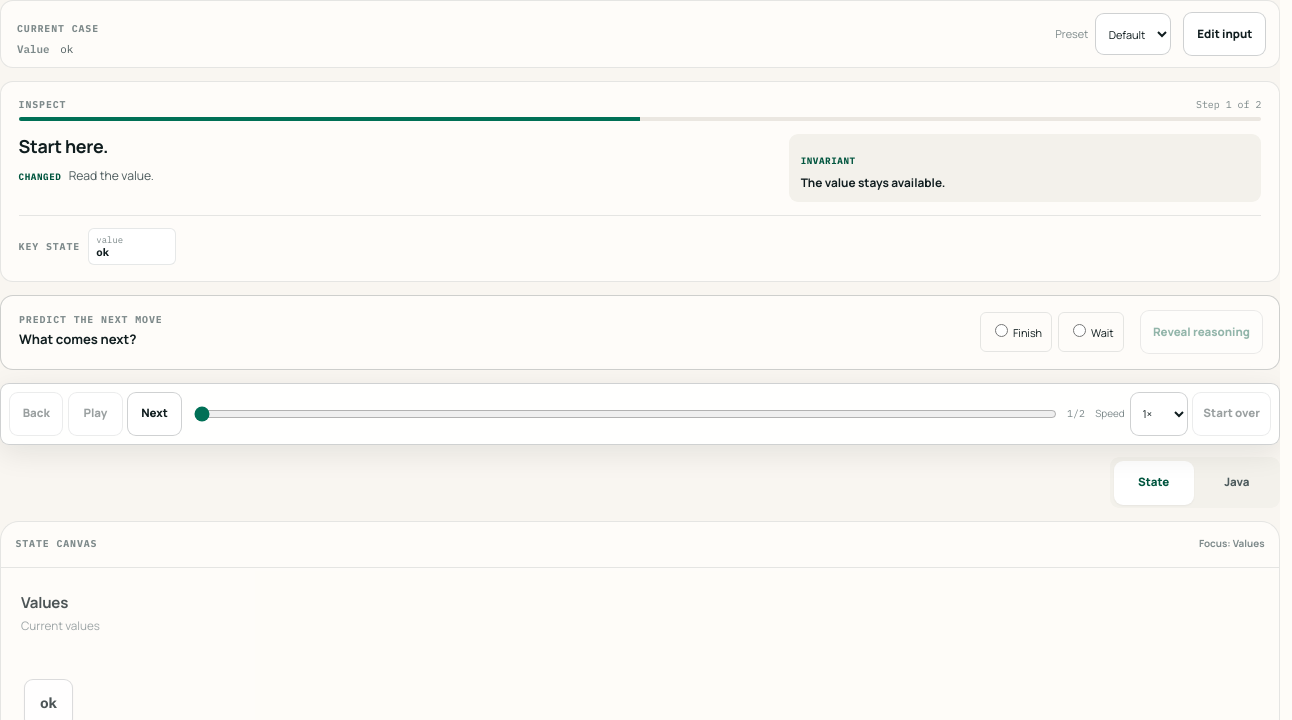
Test case: TraceWorkspace › uses one cancellable timer and pauses when the tab is hidden
Expected: the heading "Start here." is shown, [19, 134, 108, 158]
Click the radio button labelled "Finish" at (1002, 330), box [995, 324, 1008, 337]
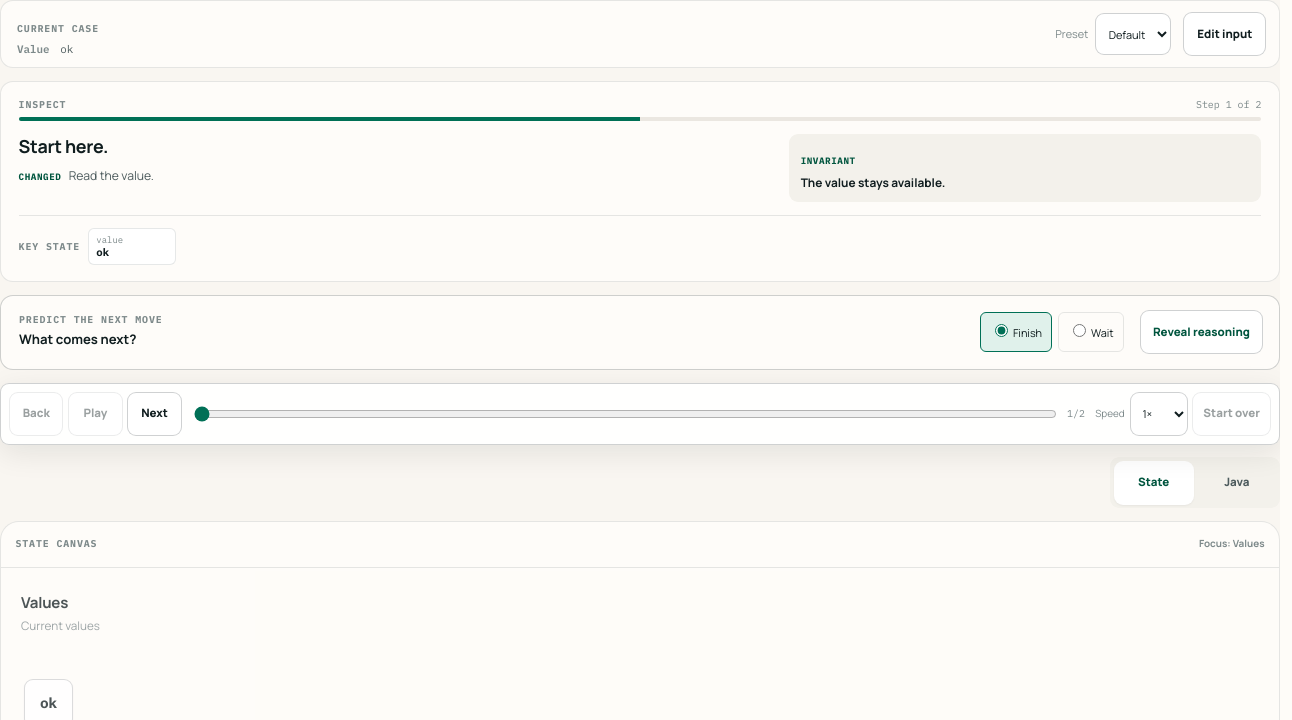
Click the button "Reveal reasoning" at (1201, 332), box [1140, 310, 1263, 354]
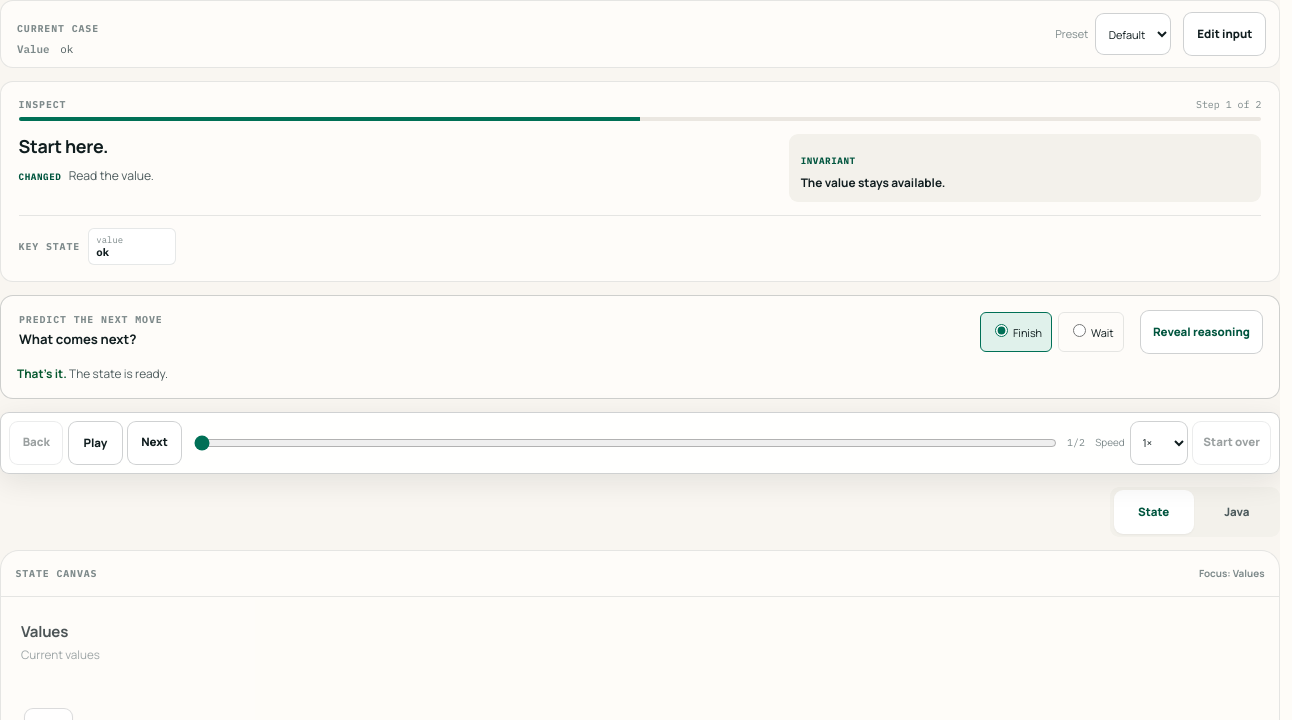
Click the button with aria-label "Play trace" at (95, 443), box [68, 421, 123, 465]
Wait 901 ms
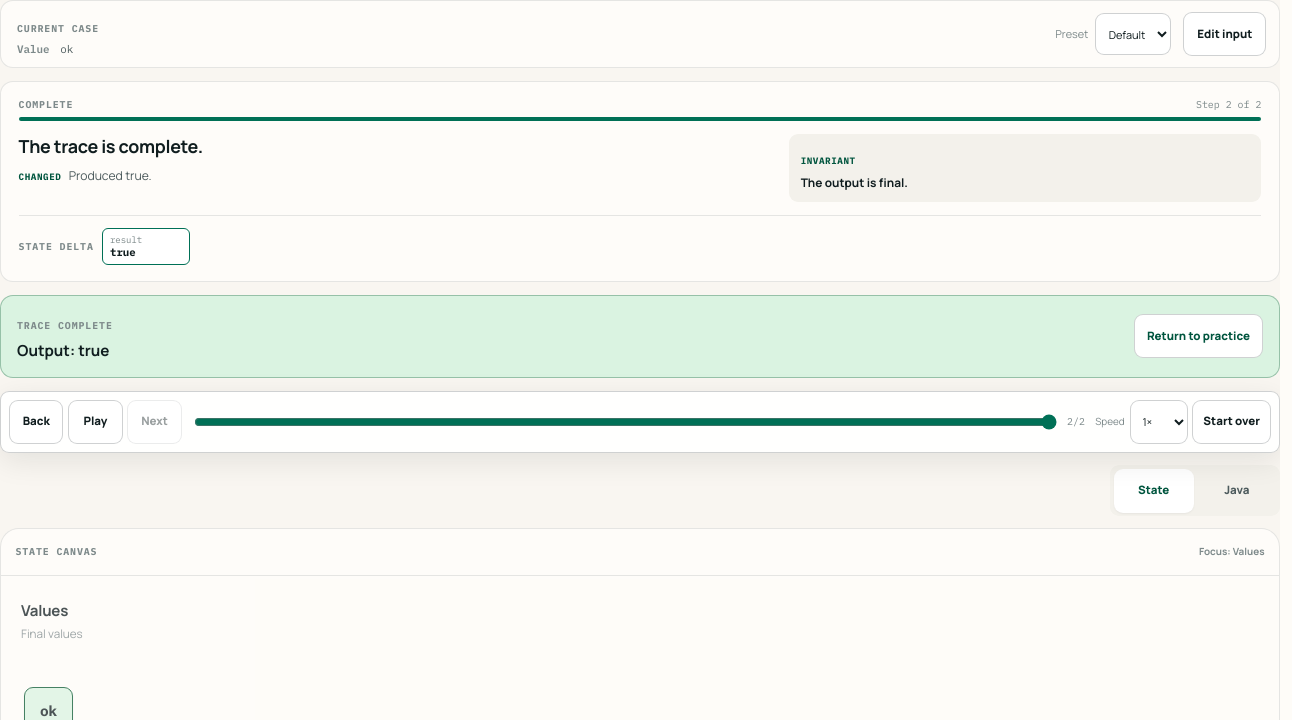
Expected: the heading "The trace is complete." is shown, [19, 134, 203, 158]
Click the button with aria-label "Play trace" at (95, 422), box [68, 400, 123, 444]
Wait 2000 ms
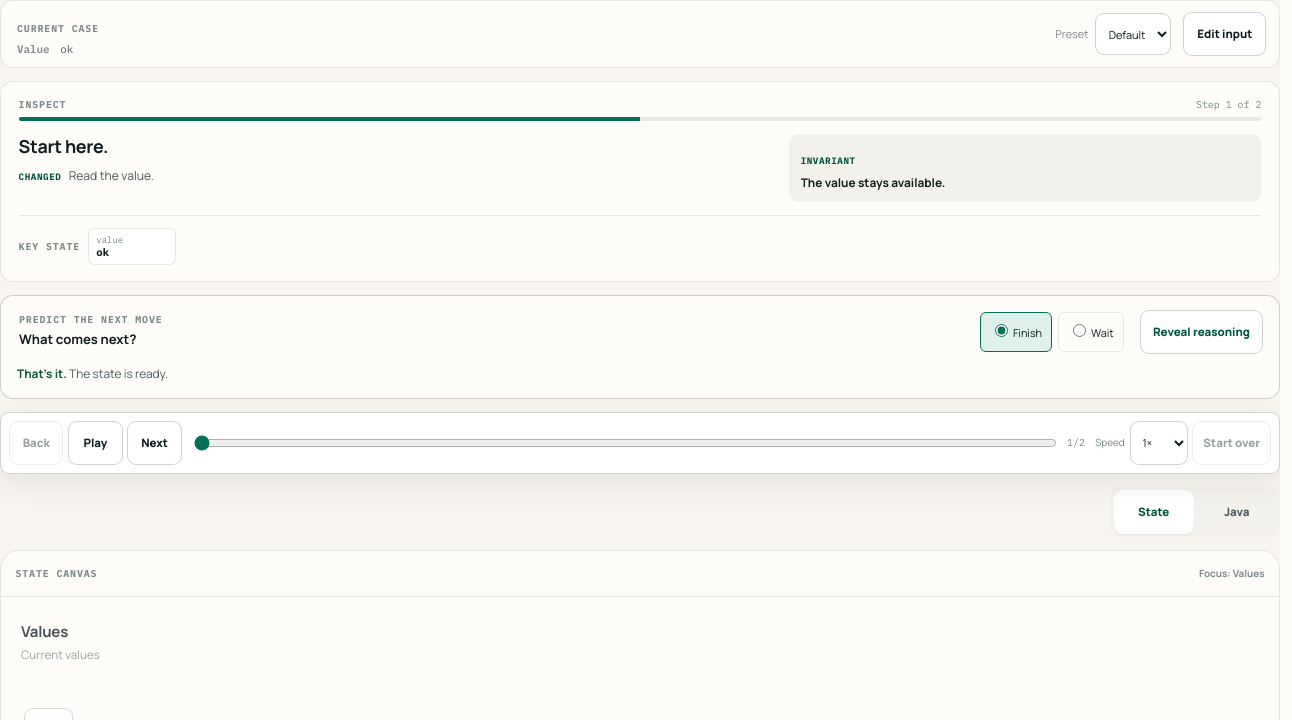
Expected: the button with aria-label "Play trace" is shown, [68, 421, 123, 465]
Expected: the heading "Start here." is shown, [19, 134, 108, 158]
